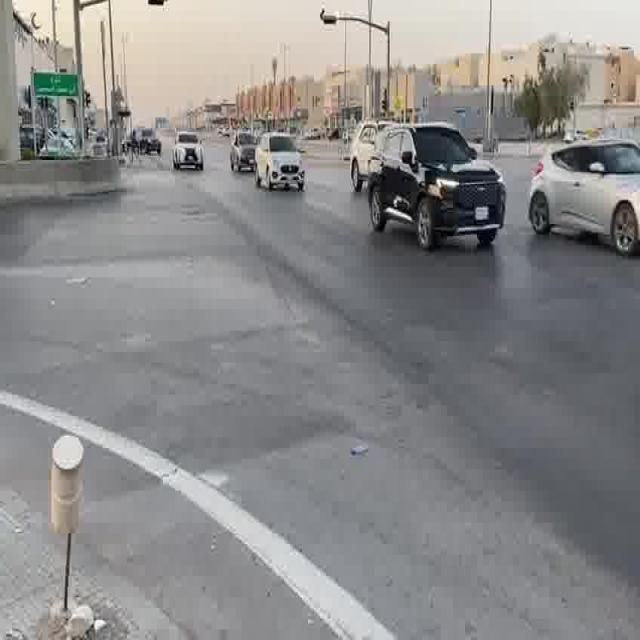bus: (365, 124, 508, 249), (529, 136, 640, 253), (350, 124, 391, 191), (256, 136, 305, 191), (173, 132, 204, 173), (232, 135, 258, 173)
car: (179, 209, 640, 640), (365, 124, 508, 249), (529, 136, 640, 253), (350, 124, 391, 191), (256, 136, 305, 191), (173, 132, 204, 173), (232, 135, 258, 173)
lanes: (179, 209, 640, 640), (226, 209, 639, 634)
lanes2: (226, 209, 639, 634), (260, 205, 640, 474)
lanes3: (260, 205, 640, 474), (286, 201, 640, 404)
lanes4: (286, 201, 640, 404), (327, 192, 640, 313)
lanes5: (327, 192, 640, 313)
